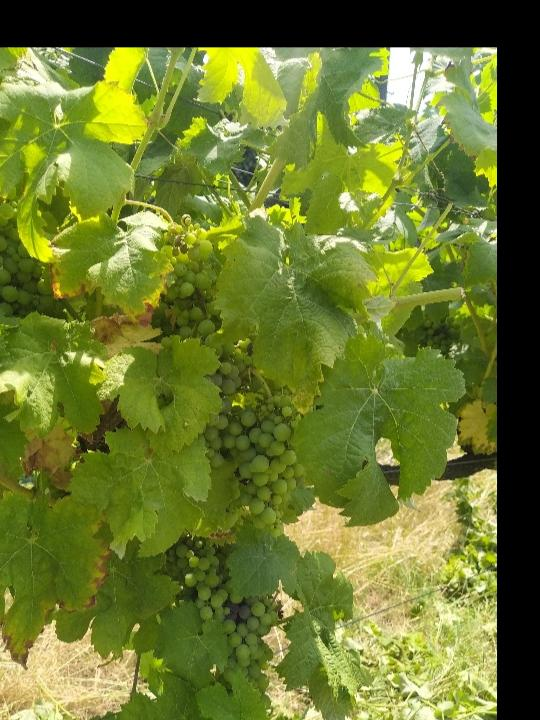grape: (203, 399, 304, 546)
